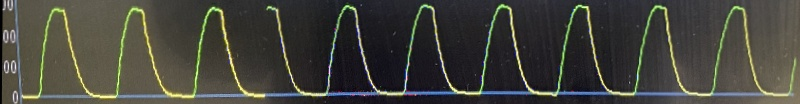normal_volume: (2, 0, 800, 104)
